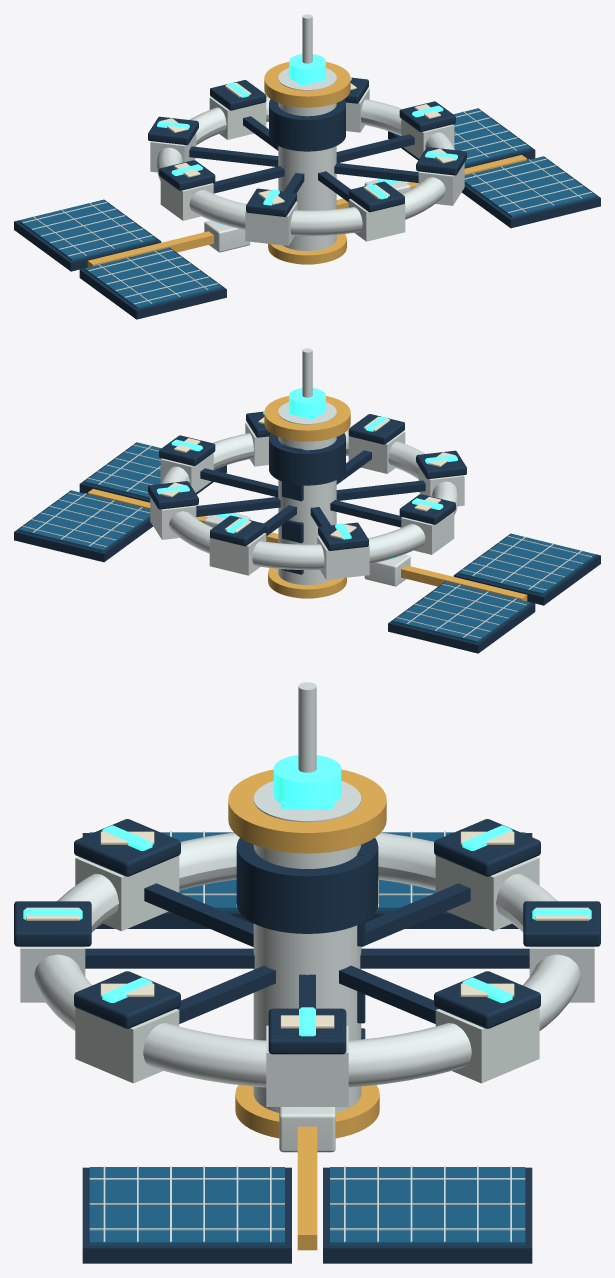
File: auto_explore.glb
3 renders of one model, top to bottom at view 1: azimuth 30°, elevation 25°; view 2: azimuth 150°, elevation 25°; view 3: azimuth 270°, elevation 25°, orthographic. The views are drawn at different scales.
Visible parts, largest first — view 1: StaticHull, AnimatedHardware; view 2: StaticHull, AnimatedHardware; view 3: AnimatedHardware, StaticHull.
Boxes of the visible parts, <box> form: StaticHull: <box>14,14,600,319</box>; AnimatedHardware: <box>148,77,466,245</box>; StaticHull: <box>14,348,600,653</box>; AnimatedHardware: <box>148,411,466,579</box>; AnimatedHardware: <box>14,819,600,1106</box>; StaticHull: <box>82,682,532,1263</box>.
Size of the model in its own units: 6.95 by 3.38 by 4.15.
